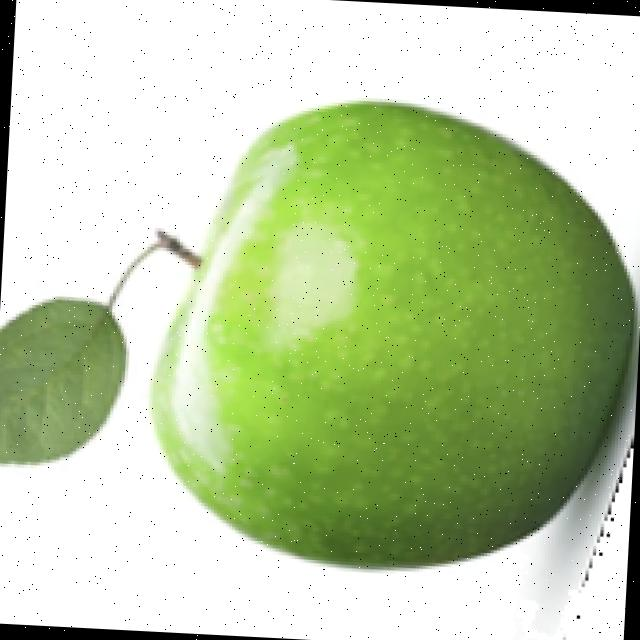apple: (102, 94, 640, 640)
